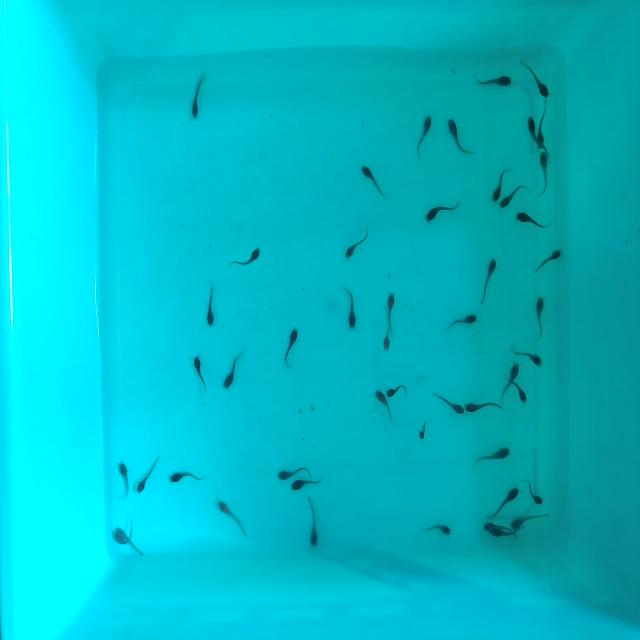lele: (514, 58, 552, 103), (216, 499, 251, 540), (487, 484, 524, 521), (446, 114, 478, 156), (132, 452, 162, 494), (475, 256, 498, 306), (422, 195, 462, 223), (221, 347, 247, 390), (116, 523, 147, 559), (342, 224, 372, 260), (357, 164, 387, 200), (471, 444, 514, 469), (430, 390, 467, 418), (496, 182, 528, 212), (532, 244, 564, 273), (373, 388, 397, 426), (233, 247, 268, 273), (511, 342, 545, 368), (114, 518, 142, 549), (489, 168, 511, 205), (416, 114, 435, 156), (304, 498, 319, 551), (511, 511, 552, 530), (504, 375, 530, 404), (515, 208, 549, 230), (344, 282, 360, 328), (520, 477, 544, 507), (284, 327, 301, 369), (446, 310, 481, 330), (535, 148, 549, 196), (291, 472, 326, 491), (278, 465, 312, 484), (532, 296, 546, 341), (192, 356, 209, 392), (118, 460, 134, 498), (524, 116, 540, 151), (536, 100, 548, 146), (191, 79, 204, 120), (204, 280, 215, 326), (474, 74, 512, 87), (463, 400, 502, 412), (422, 522, 454, 536), (169, 472, 202, 484), (386, 382, 408, 399), (386, 293, 396, 327), (481, 521, 511, 531), (382, 323, 392, 352), (416, 418, 427, 440), (489, 530, 517, 538), (509, 362, 519, 382)
